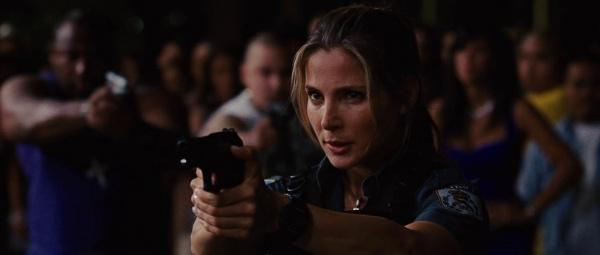Gun: (177, 127, 247, 192), (104, 73, 128, 96)
